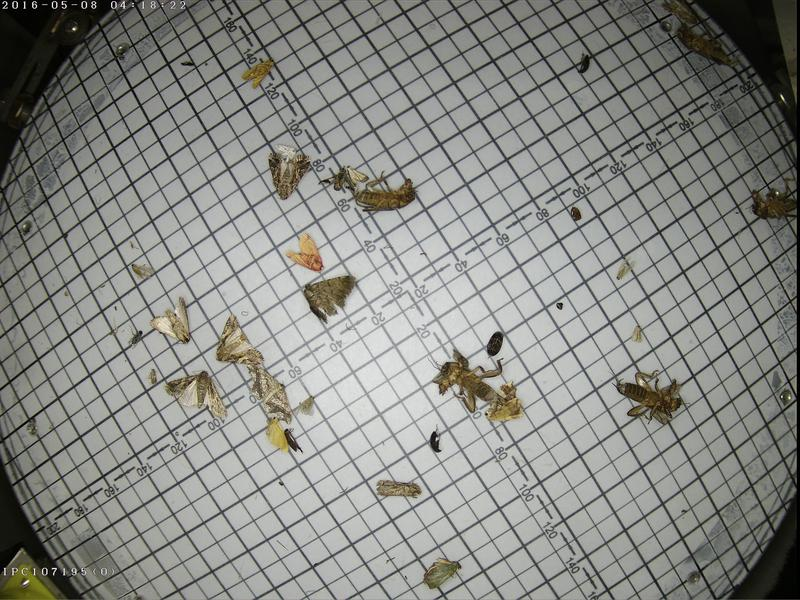Gryllotalpa orientalis: (423, 343, 508, 409), (607, 364, 680, 423), (676, 23, 738, 65), (351, 171, 416, 210), (747, 174, 795, 225)
Rice Leaf Roller: (345, 161, 364, 181)
Spodoptera litura: (161, 368, 224, 417), (214, 312, 262, 364), (142, 295, 189, 344), (266, 148, 310, 200), (374, 478, 422, 497), (660, 0, 702, 20)
